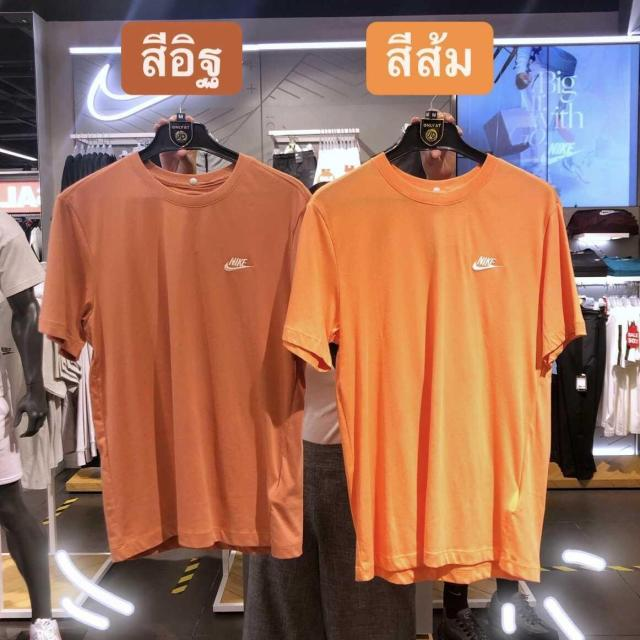Tshirt: (298, 140, 594, 594), (29, 156, 333, 566)
